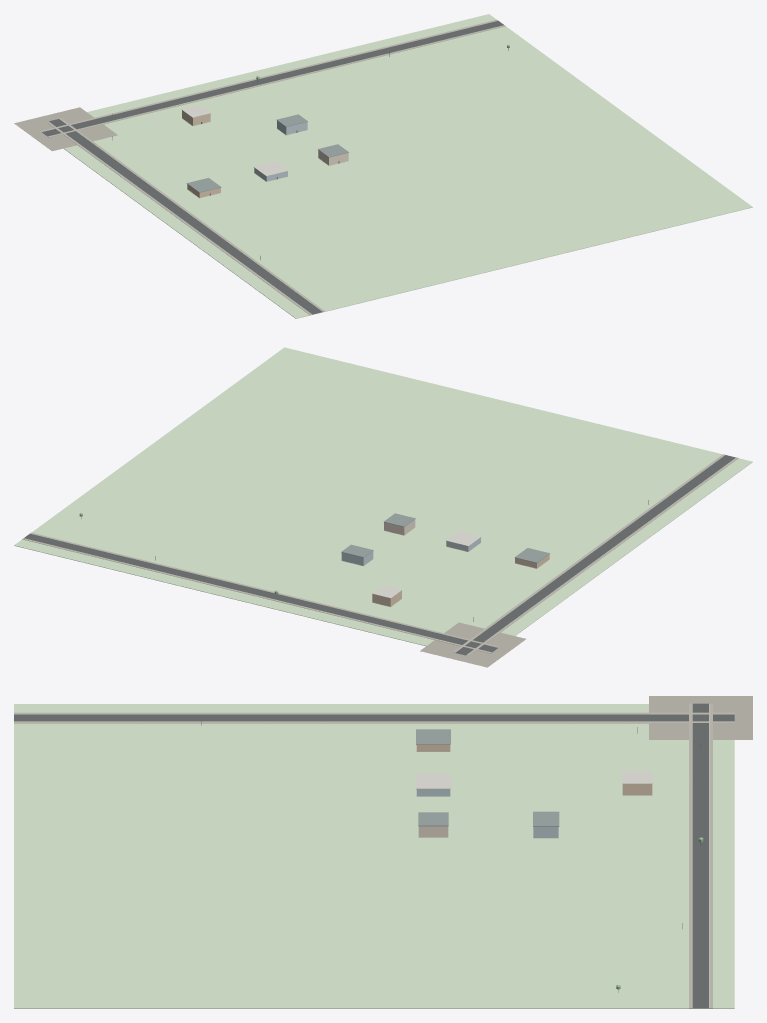
Rendered from chunk_2_2_low.glb.
The picture shows the model from 3 angles, top to bottom: view 1: azimuth 30°, elevation 25°; view 2: azimuth 150°, elevation 25°; view 3: azimuth 270°, elevation 25°; orthographic projection. The views are drawn at different scales.
Parts seen in each view (by area): view 1: city_grass, city_world_asphalt, city_world_sidewalk, city_village_stone, city_curb, city_roof_slate, city_roof_tile; view 2: city_grass, city_world_asphalt, city_world_sidewalk, city_village_stone, city_curb, city_roof_slate, city_roof_tile; view 3: city_grass, city_world_asphalt, city_world_sidewalk, city_village_stone, city_roof_slate, city_curb, city_roof_tile, city_wall_sand, city_wall_blue.
Part boxes in pixels (box(x1,y1,x2,y2)): city_grass: box(63, 14, 752, 318); city_world_asphalt: box(42, 21, 503, 314); city_world_sidewalk: box(40, 19, 505, 314); city_village_stone: box(14, 107, 117, 151); city_curb: box(42, 20, 504, 313); city_roof_slate: box(186, 114, 348, 192); city_roof_tile: box(181, 105, 287, 176); city_grass: box(14, 347, 752, 646); city_world_asphalt: box(24, 455, 735, 655); city_world_sidewalk: box(22, 454, 738, 655); city_village_stone: box(420, 622, 525, 667); city_curb: box(26, 455, 735, 655); city_roof_slate: box(341, 513, 549, 562); city_roof_tile: box(372, 531, 481, 598); city_grass: box(14, 704, 734, 1008); city_world_asphalt: box(14, 703, 734, 1008); city_world_sidewalk: box(14, 703, 734, 1008); city_village_stone: box(649, 696, 752, 739); city_roof_slate: box(416, 729, 559, 826); city_curb: box(14, 703, 734, 1008); city_roof_tile: box(416, 771, 652, 788); city_wall_sand: box(416, 744, 652, 794); city_wall_blue: box(416, 789, 558, 837).
Size of the model in its own units: 525 by 9.93 by 525.
